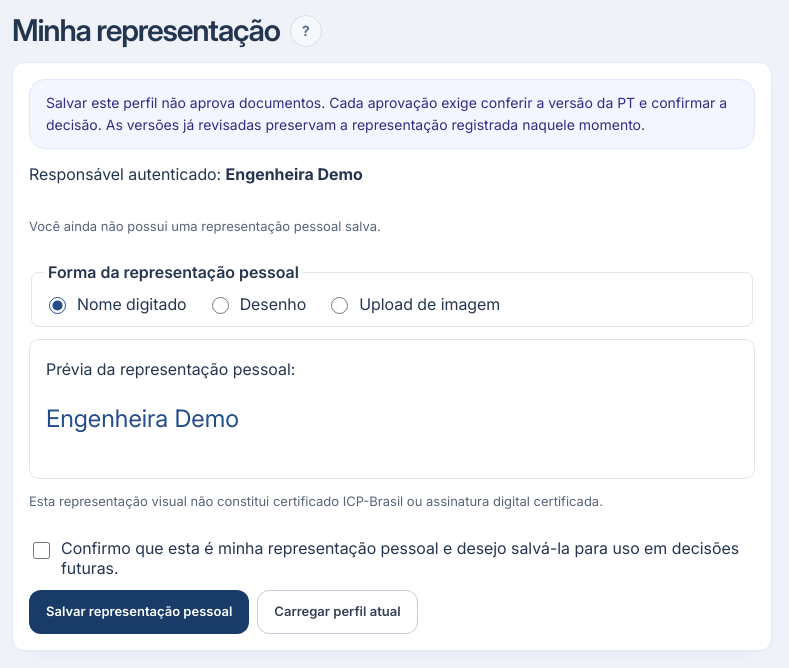
Test: representação pessoal reutilizável › bloqueia mudança de contexto durante envio e ignora resposta após desmontagem
Click the checkbox at (42, 550), box 33,542 -> 50,558
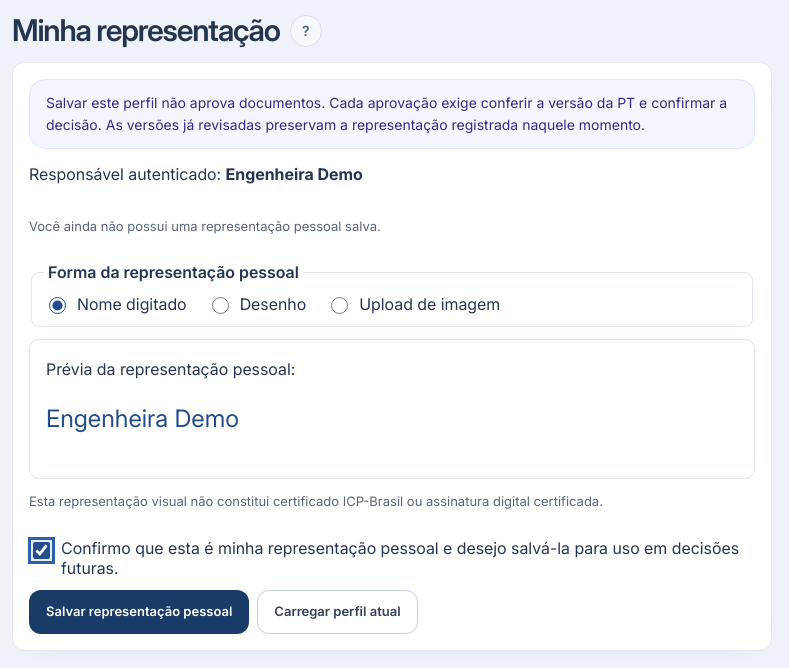
Click the button "Salvar representação pessoal" at (139, 612), box 29,590 -> 249,634
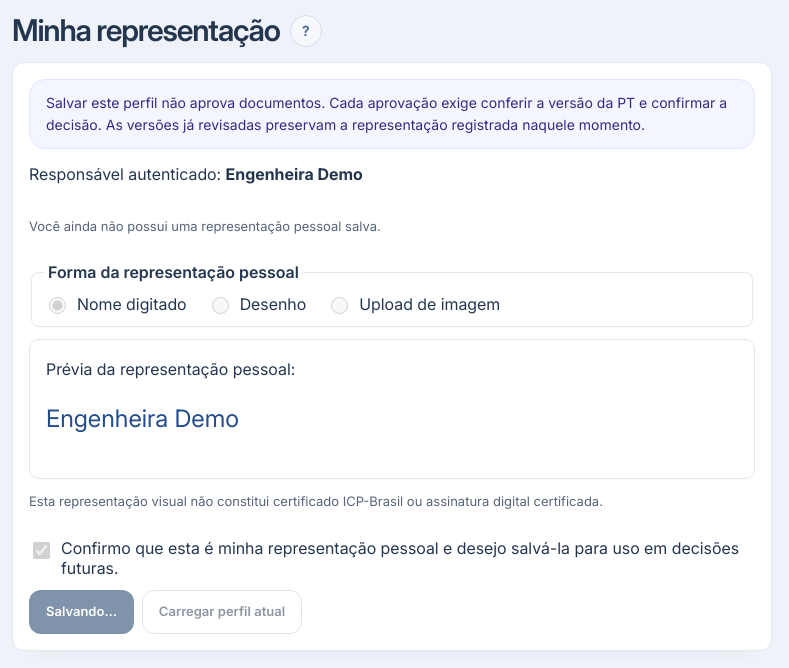
Expected: the button "Salvando…" is shown, 29,590 -> 134,634
